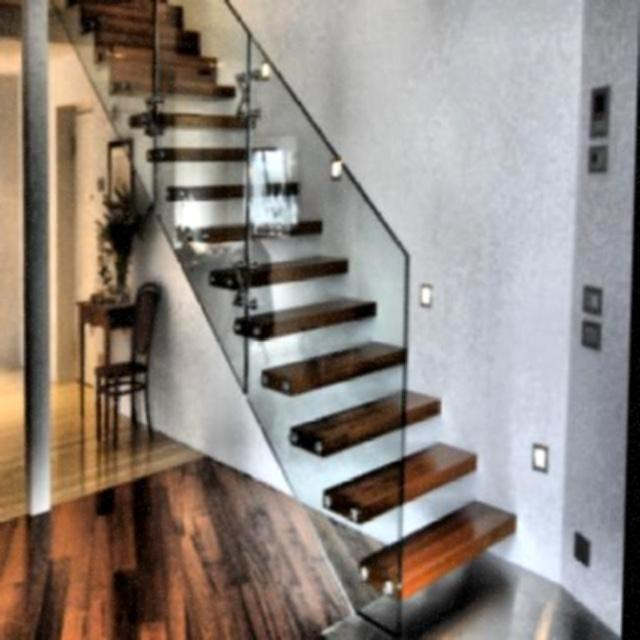stair: (174, 91, 537, 529)
